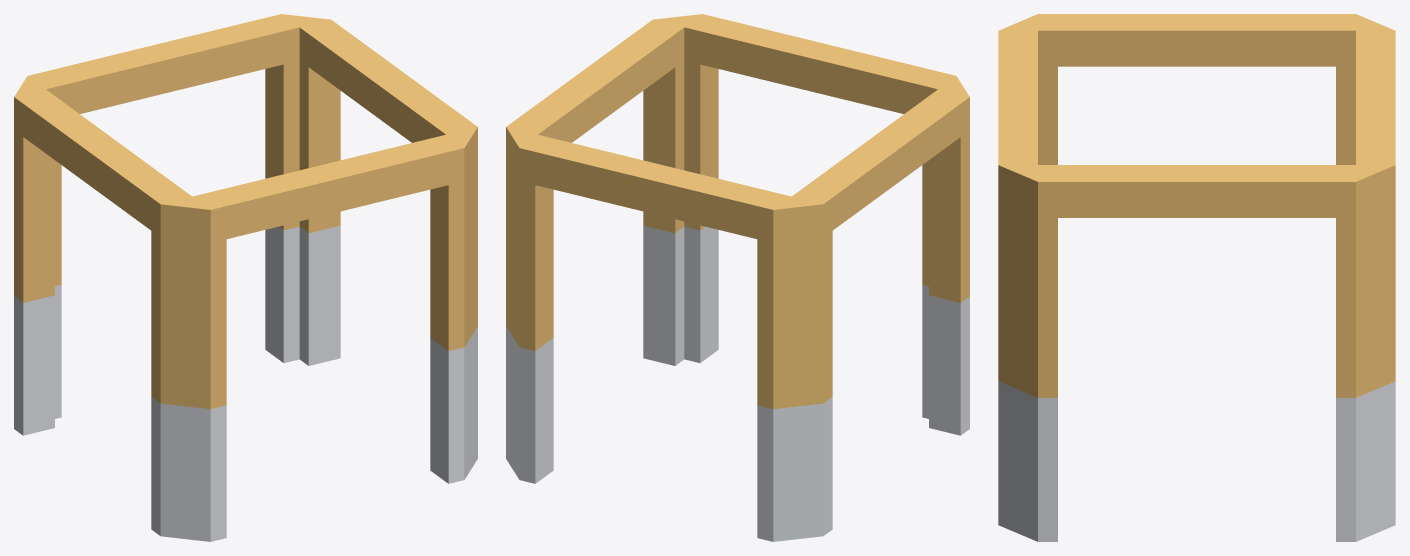
The model's file is structure.glb.
3 renders of one model, left to right at view 1: azimuth 30°, elevation 25°; view 2: azimuth 150°, elevation 25°; view 3: azimuth 270°, elevation 25°, orthographic. The views are drawn at different scales.
Visible parts, largest first — view 1: structure; view 2: structure; view 3: structure.
Boxes of the visible parts, <box> form: structure: <box>14,14,477,541</box>; structure: <box>506,14,969,541</box>; structure: <box>998,14,1395,541</box>.
Bounding box in the file's own units: 1 × 1 × 1.
